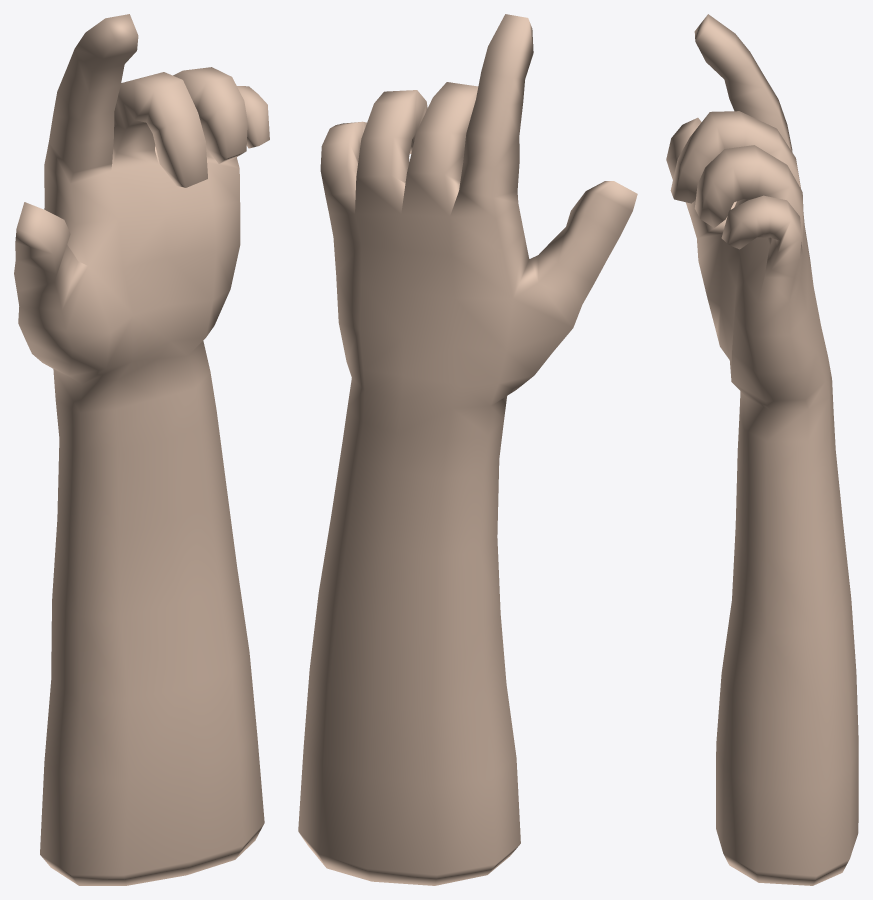
File: finger01.fbx
3 renders of one model, left to right at view 1: azimuth 30°, elevation 25°; view 2: azimuth 150°, elevation 25°; view 3: azimuth 270°, elevation 25°, orthographic. The views are drawn at different scales.
Visible parts, largest first — view 1: AnatomyHandHumanMale_hand_basemesh; view 2: AnatomyHandHumanMale_hand_basemesh; view 3: AnatomyHandHumanMale_hand_basemesh.
Part boxes in pixels (bbox=[...]): AnatomyHandHumanMale_hand_basemesh: bbox=[14, 14, 269, 885]; AnatomyHandHumanMale_hand_basemesh: bbox=[298, 14, 637, 885]; AnatomyHandHumanMale_hand_basemesh: bbox=[666, 14, 858, 885].
Size of the model in its own units: 14.31 by 42.16 by 9.23.
